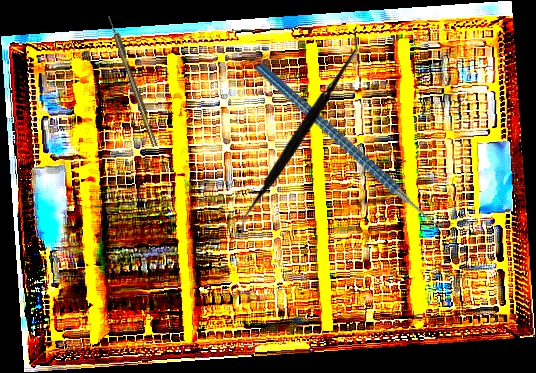Chopper: (253, 17, 458, 273)
Hook Surgical: (106, 14, 159, 148)
Spatula Surgical: (239, 29, 358, 238)
